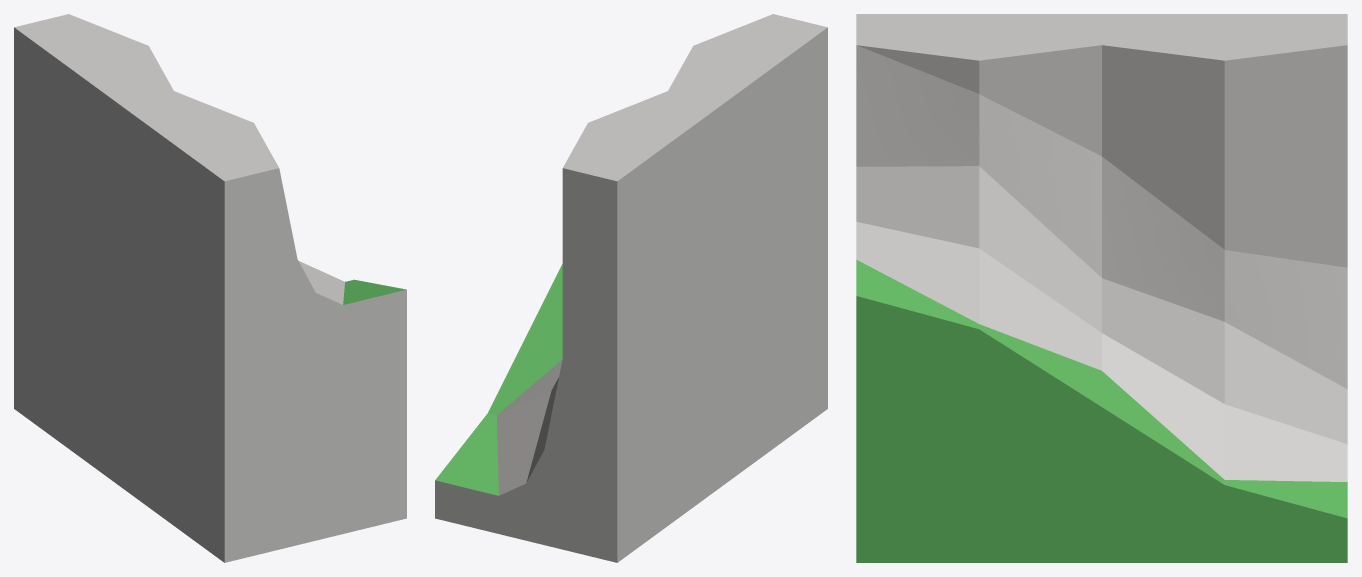
Rendered from Cliff_Base_Hill_Sharp.glb.
3 views of the same model, side by side, from view 1: azimuth 30°, elevation 25°; view 2: azimuth 150°, elevation 25°; view 3: azimuth 270°, elevation 25° (orthographic). The views are drawn at different scales.
Visible parts, largest first — view 1: object1; view 2: object1; view 3: object1.
Part boxes in pixels (box(x1,y1,x2,y2)): object1: box(14, 14, 406, 562); object1: box(435, 14, 827, 562); object1: box(856, 14, 1347, 562).
Bounding box in the file's own units: 1 × 2 × 2.
